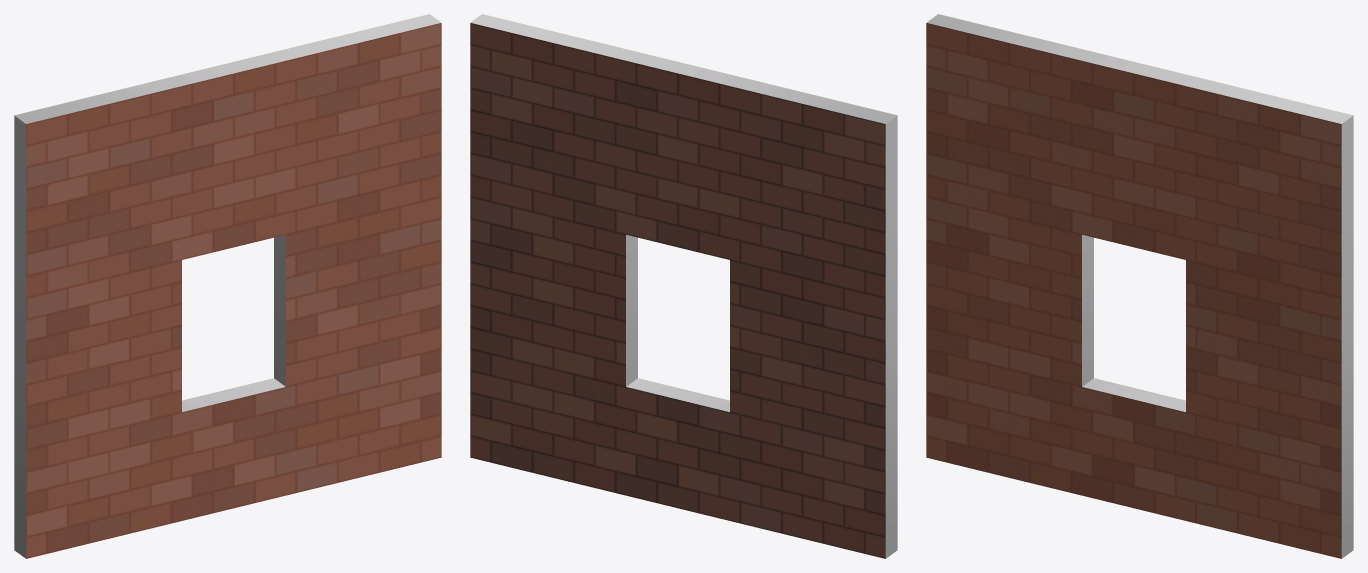
File: Wall_03.glb
3 views of the same model, side by side, from view 1: azimuth 30°, elevation 25°; view 2: azimuth 150°, elevation 25°; view 3: azimuth 330°, elevation 25° (orthographic).
Parts seen in each view (by area): view 1: Wall_03; view 2: Wall_03; view 3: Wall_03.
Boxes of the visible parts, x1,y1,x2,y2 form: Wall_03: (14,14,441,558); Wall_03: (470,14,897,558); Wall_03: (926,14,1353,558).
Bounding box in the file's own units: 4 × 4 × 0.2.
Materials: 3 (3 with a texture image).
